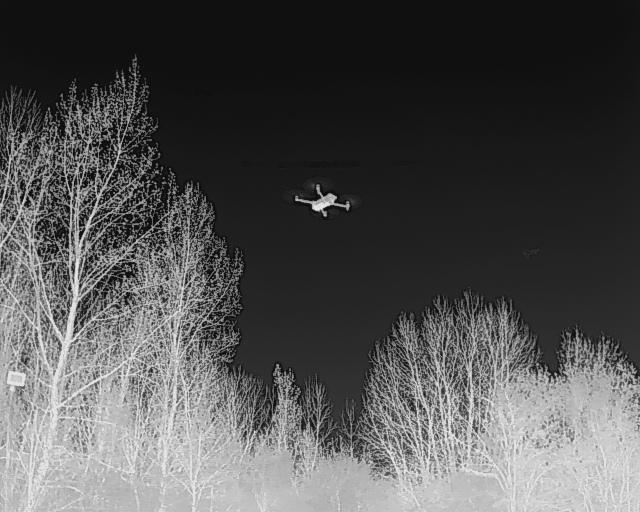drone: (287, 175, 357, 228)
